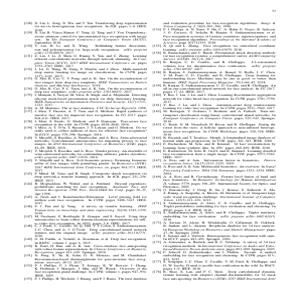text: (151, 20, 281, 285), (20, 19, 149, 285)
